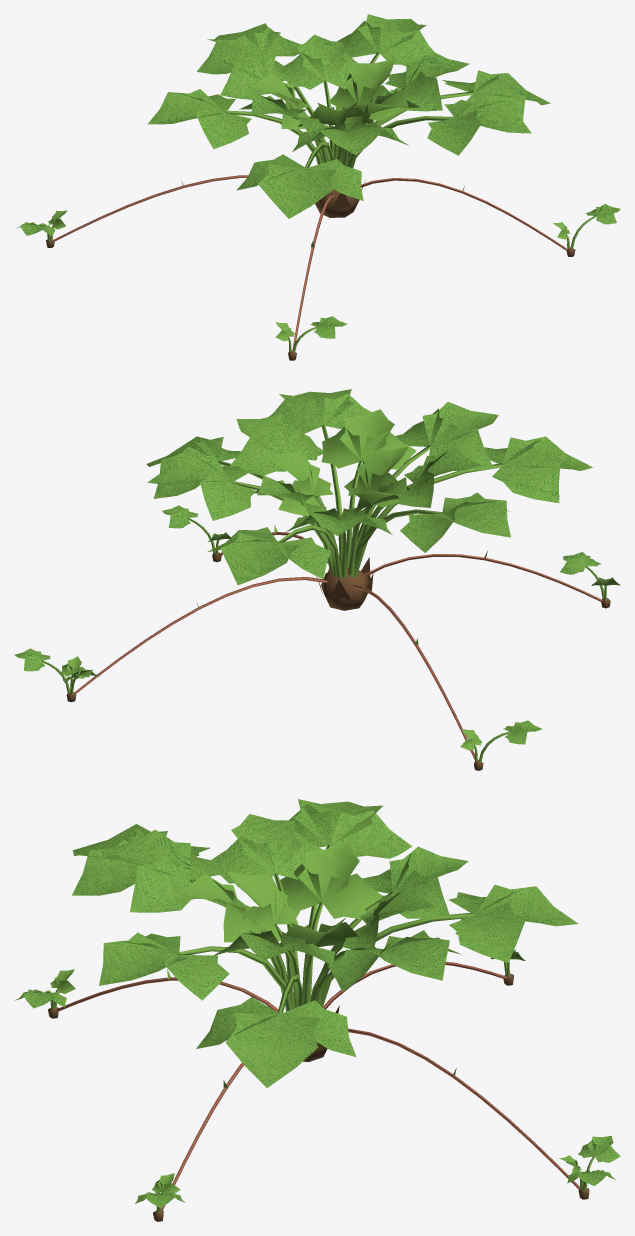
Rendered from strawberry_s6_runners_no_berrys.obj.
3 renders of one model, top to bottom at view 1: azimuth 30°, elevation 25°; view 2: azimuth 150°, elevation 25°; view 3: azimuth 270°, elevation 25°, orthographic. The views are drawn at different scales.
Visible parts, largest first — view 1: Leaves, Runners, Crown; view 2: Leaves, Runners, Crown; view 3: Leaves, Runners.
Part boxes in pixels (x1,y1,x2,y2): Leaves: (147,14,550,218); Runners: (16,87,620,360); Crown: (315,180,365,217); Leaves: (146,389,592,585); Runners: (14,505,620,770); Crown: (316,557,373,610); Leaves: (72,799,578,1087); Runners: (15,918,620,1221).
Bounding box in the file's own units: 1.03 × 0.3883 × 0.9029.
